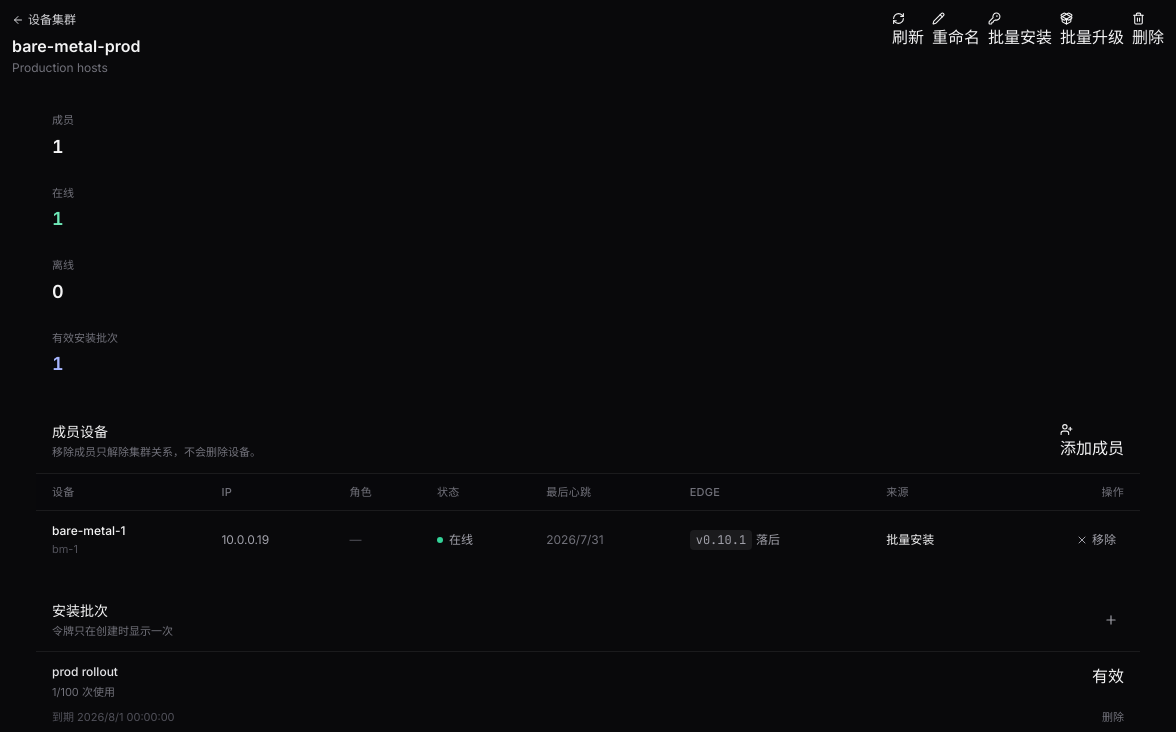
Scenario: device cluster pages › deletes an installation batch without deleting cluster members
Expected: the heading "成员设备" is shown, [52, 423, 108, 440]
Click the button with aria-label "删除安装批次 prod rollout": [1113, 717] box [1102, 708, 1124, 725]
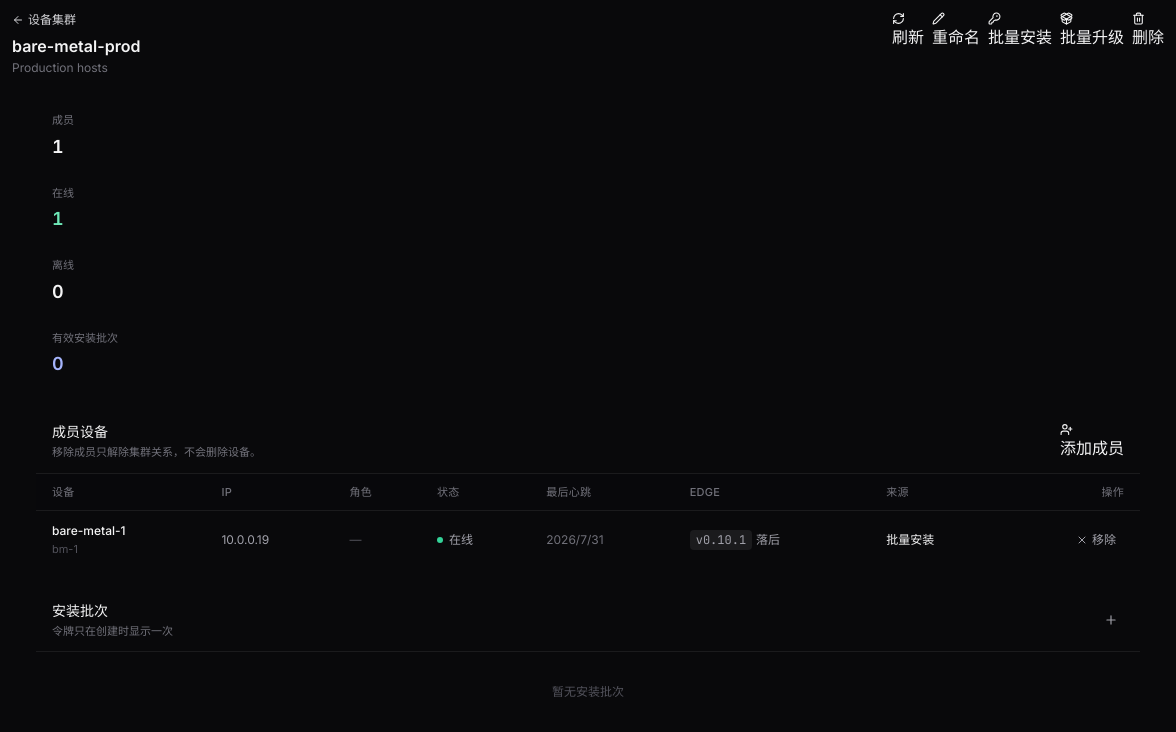
Expected: the link "bare-metal-1" is shown, [52, 522, 126, 538]
Expected: the text "prod rollout" is gone
